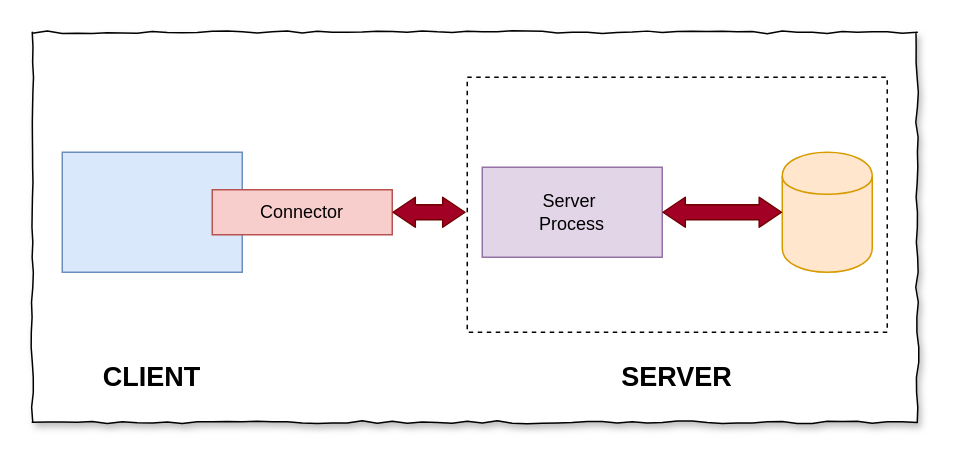
Image size: 953x459. Some labels were removed from this diagram. The shapes that lost their labels are listed below. From the top down, each one's centre as x and y in pixels, then its label:
At pixel 151 211: "Application".
At pixel 826 211: "DB files".
